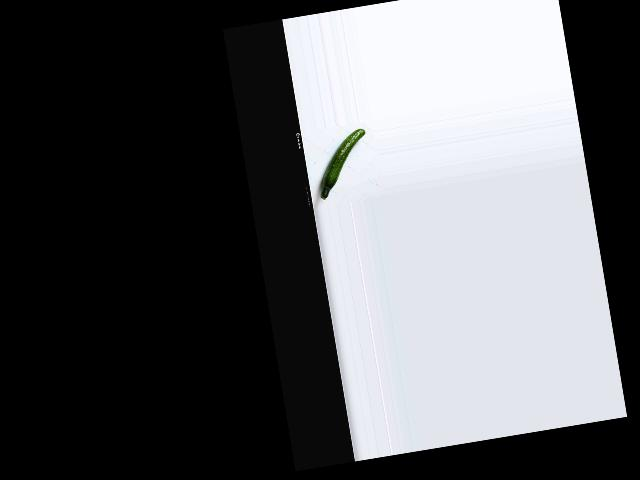cucumber: (311, 128, 374, 200)
